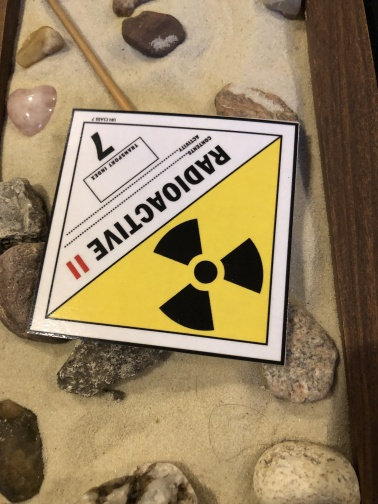Radioactive: (32, 110, 295, 363)
